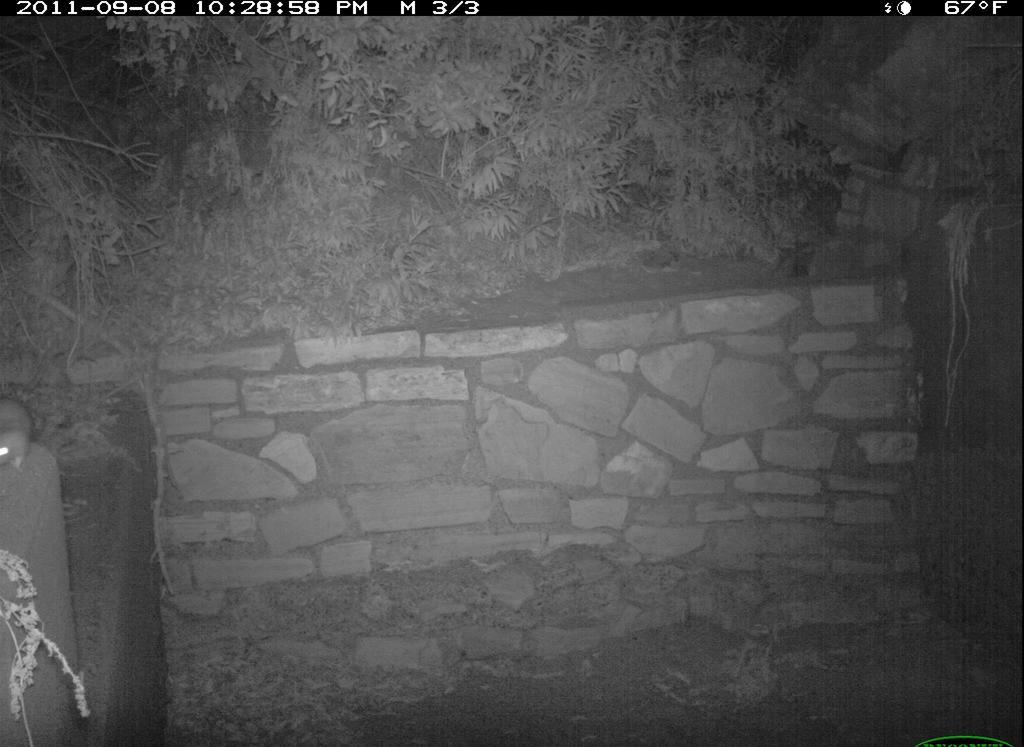rodent: (1, 388, 47, 482)
